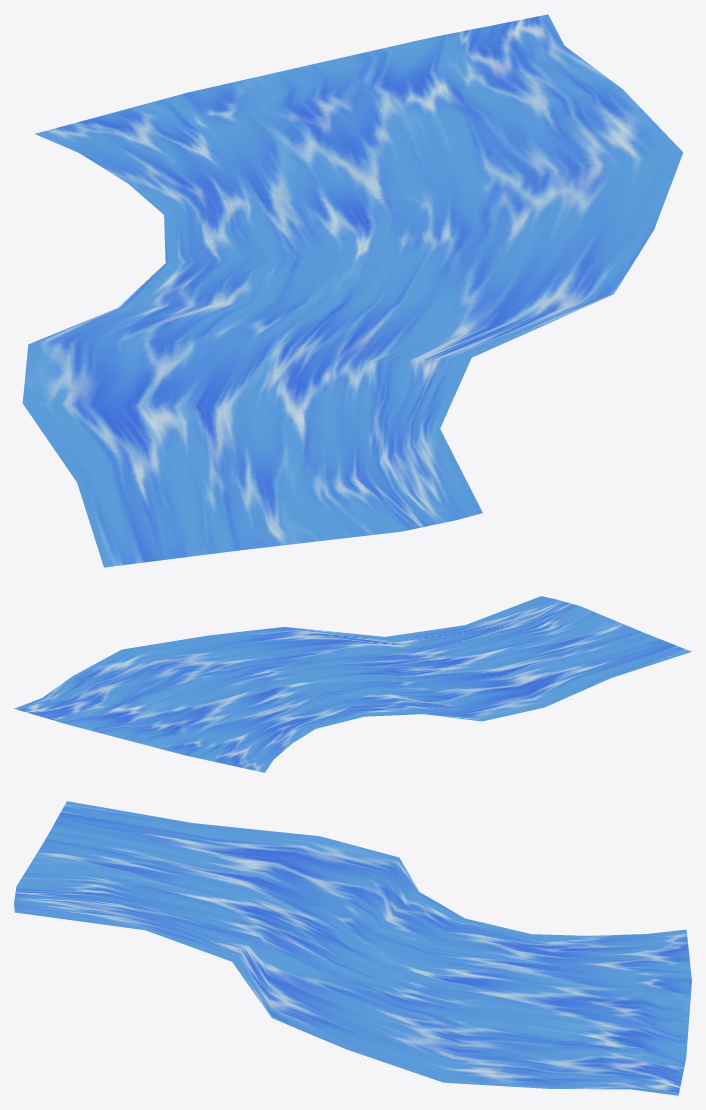
Rendered from scene_10001_water04.FBX.
3 renders of one model, top to bottom at view 1: azimuth 30°, elevation 25°; view 2: azimuth 150°, elevation 25°; view 3: azimuth 270°, elevation 25°, orthographic. The views are drawn at different scales.
Parts seen in each view (by area): view 1: Plane003; view 2: Plane003; view 3: Plane003.
Boxes of the visible parts, left/top/right/bottom form: Plane003: left=22, top=14, right=683, bottom=567; Plane003: left=14, top=596, right=691, bottom=772; Plane003: left=14, top=801, right=691, bottom=1095.
Size of the model in its own units: 1028 by 3.05e-05 by 1000.
